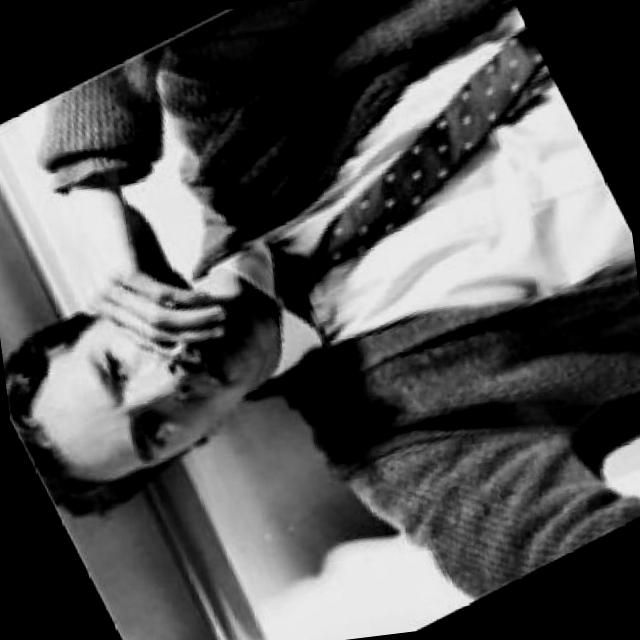smoke: (164, 330, 201, 367)
